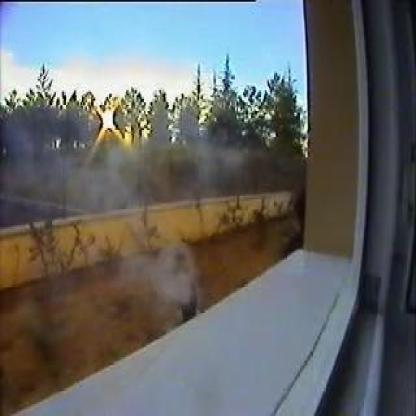-: (120, 238, 193, 301)
